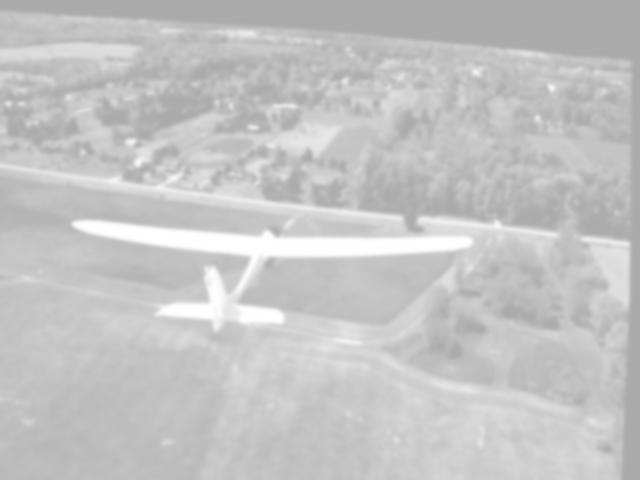hedef: (49, 173, 501, 359)
